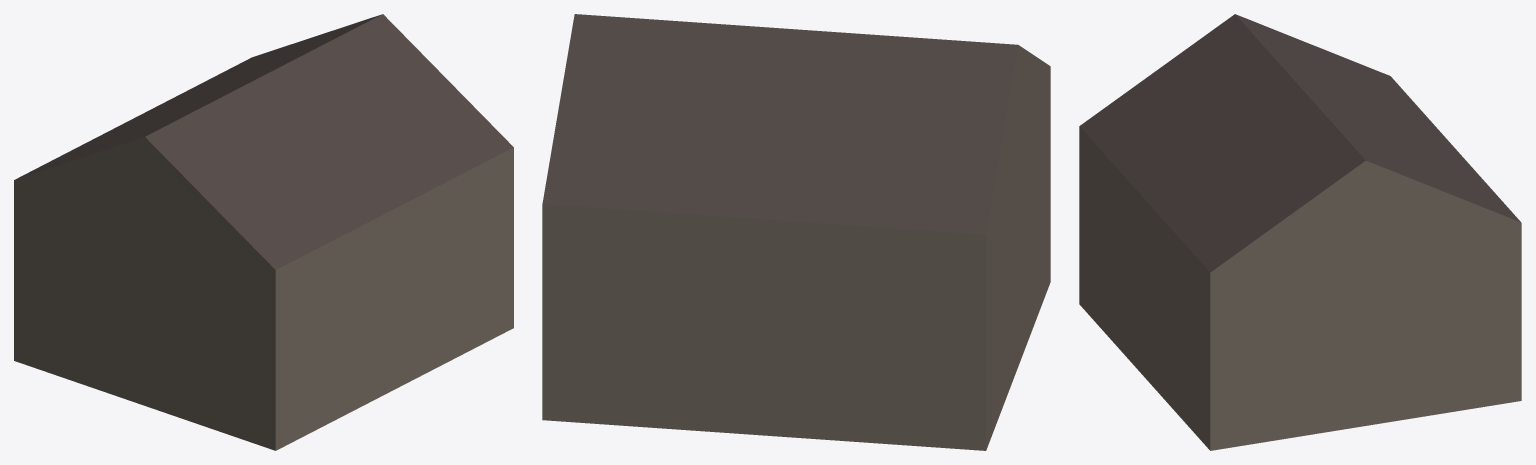
The picture shows the model from 3 angles, left to right: view 1: azimuth 30°, elevation 25°; view 2: azimuth 150°, elevation 25°; view 3: azimuth 270°, elevation 25°; orthographic projection. The views are drawn at different scales.
Parts seen in each view (by area): view 1: HP-w505650482; view 2: HP-w505650482; view 3: HP-w505650482.
Boxes of the visible parts, x1=… form: HP-w505650482: x1=14, y1=14, x2=513, y2=450; HP-w505650482: x1=542, y1=14, x2=1050, y2=450; HP-w505650482: x1=1079, y1=14, x2=1521, y2=450.
Bounding box in the file's own units: 14.19 × 8.93 × 13.48.
